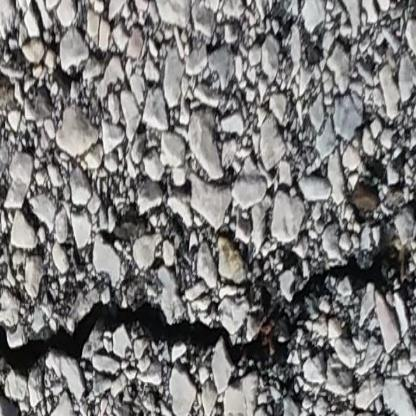Cracks: (0, 218, 416, 380)
